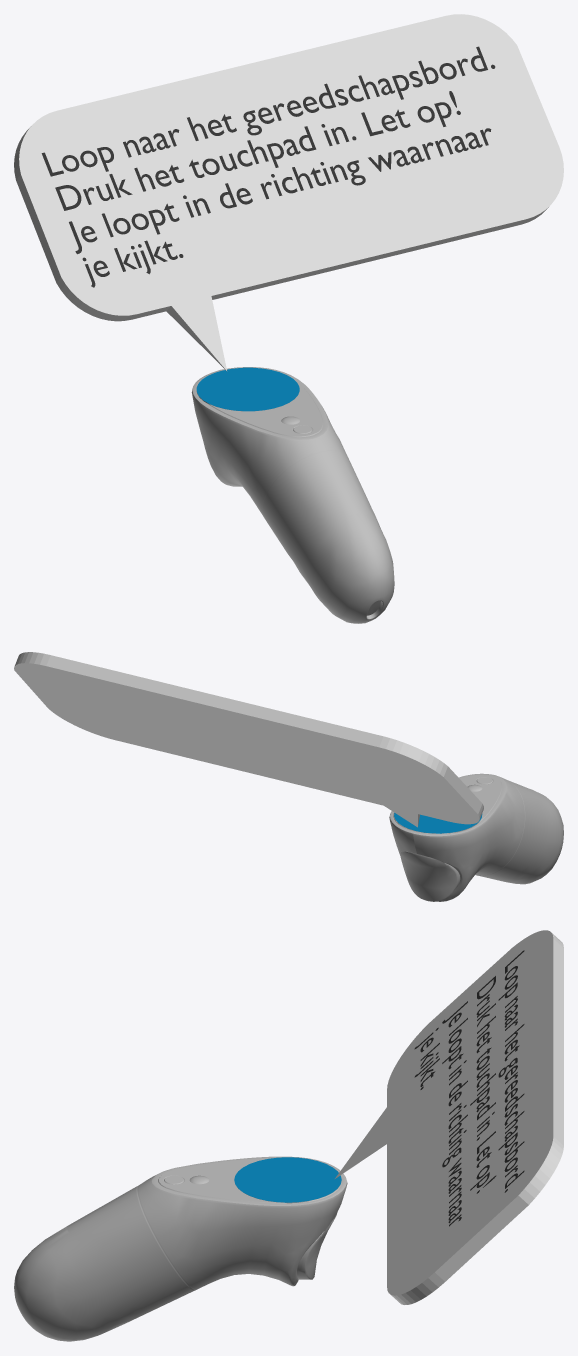
Rendered from REMOTE-tutorial-1-walk-to-toolboard.fbx.
3 renders of one model, top to bottom at view 1: azimuth 30°, elevation 25°; view 2: azimuth 150°, elevation 25°; view 3: azimuth 270°, elevation 25°, orthographic. The views are drawn at different scales.
Visible parts, largest first — view 1: Curve, Circle, Text; view 2: Curve, Circle; view 3: Curve, Circle, Text.
Boxes of the visible parts, x1,y1,x2,y2 form: Curve: (14, 14, 563, 371); Circle: (191, 367, 394, 623); Text: (41, 46, 495, 287); Curve: (14, 652, 483, 827); Circle: (389, 773, 563, 901); Curve: (335, 930, 563, 1304); Circle: (14, 1156, 347, 1341); Text: (414, 950, 524, 1226).
Bounding box in the file's own units: 426 × 288 × 390.
